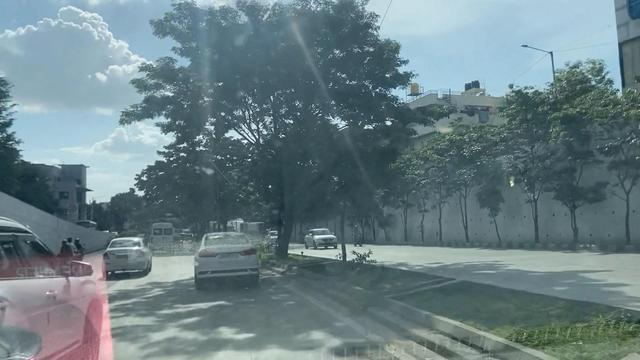LMV: (197, 232, 260, 279), (103, 238, 149, 271)
